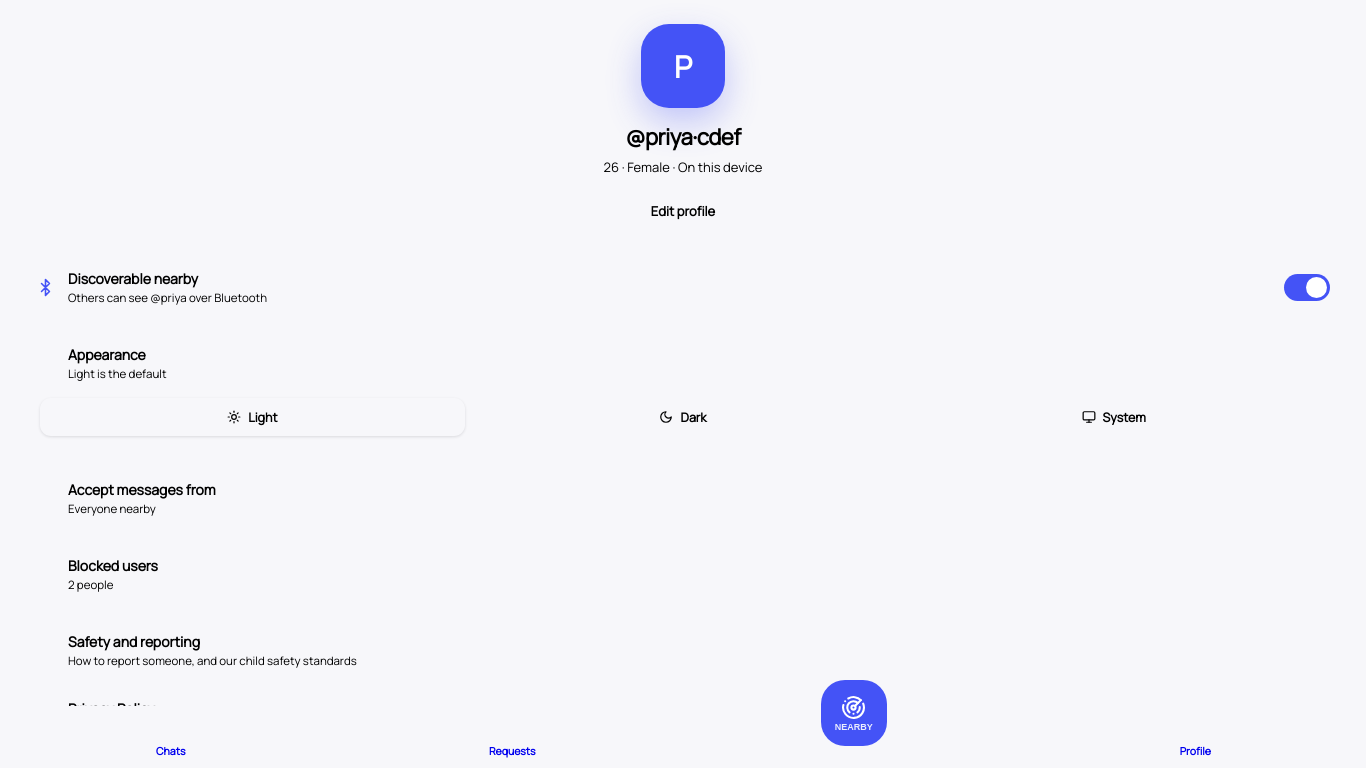
Scenario: ProfileScreen — changing the username › saves a new name and shows the handle the core returns
Click the button "Edit profile": (683,211) [631,190,735,232]
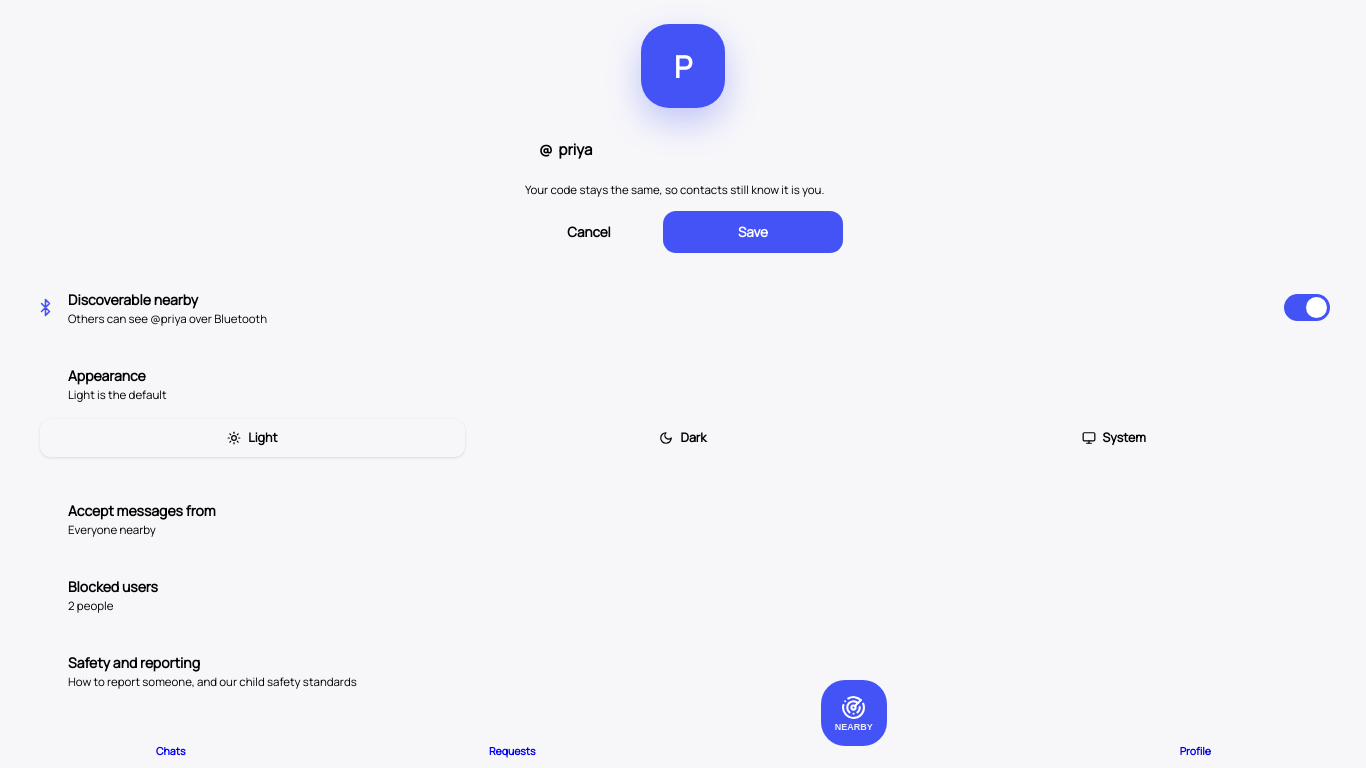
Check: the field named "Username" holds "priya"
Replace the text in the field named "Username" with "priya_s": (692,149) [557,138,827,160]
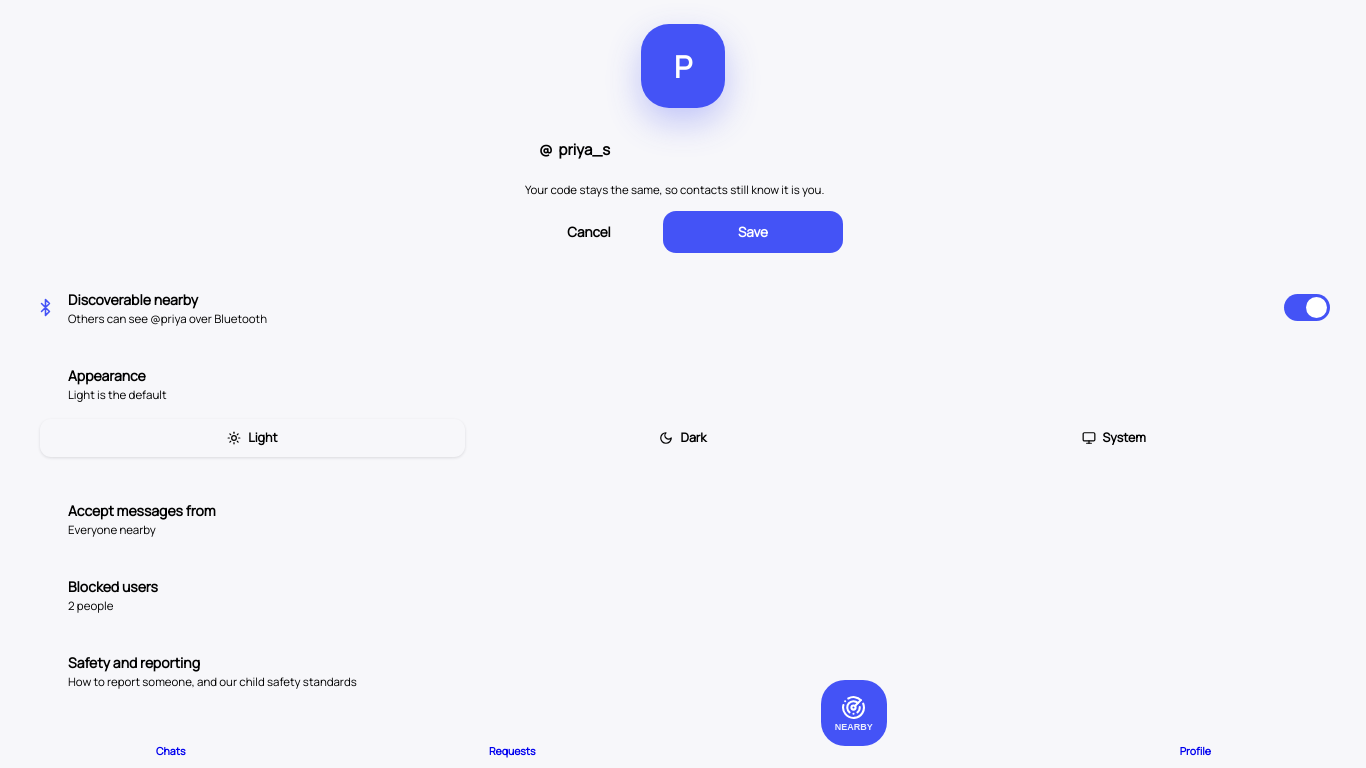
Click the button "Save": (753,232) [663,211,843,253]
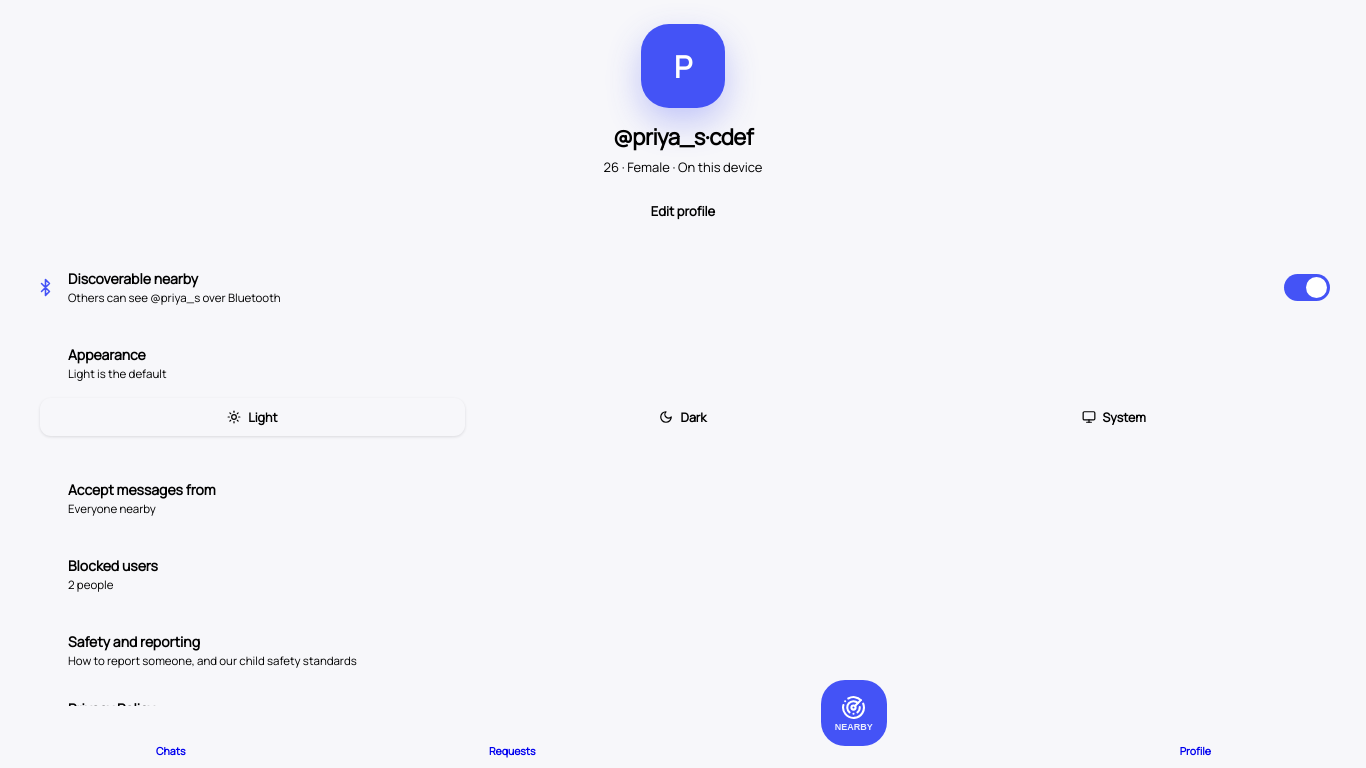
Check: the heading "@priya_s·cdef" is shown, box [613,122,753,152]
Check: the field labelled "Username" is gone
